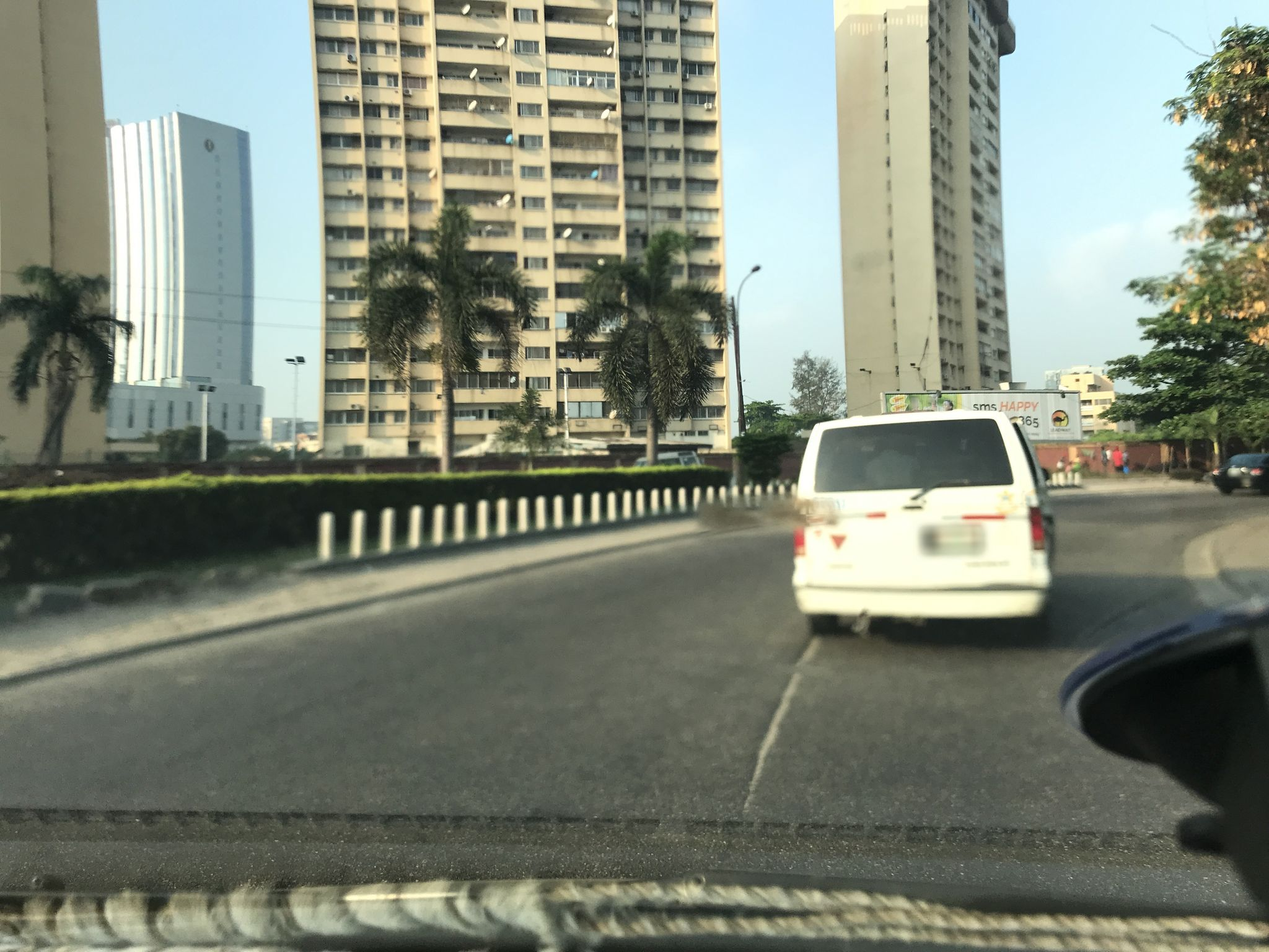Billboard: (880, 389, 1082, 442)
